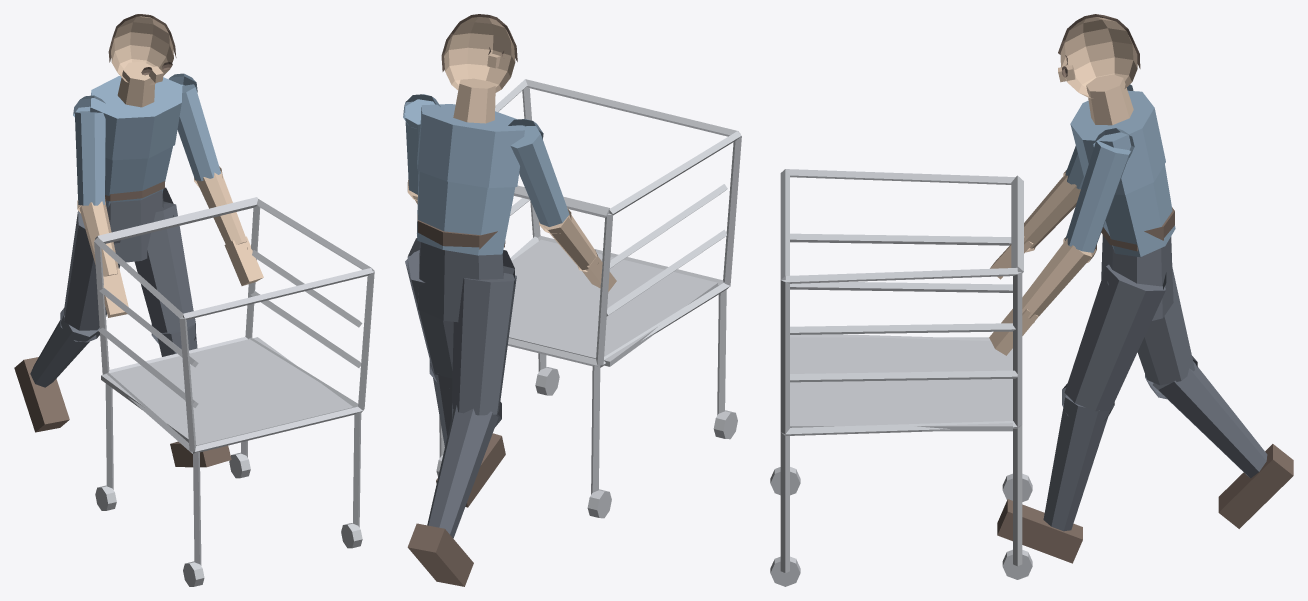
Rendered from low-poly-character-figures-civilian-pushing-trolley-02fba33e.glb.
3 views of the same model, side by side, from view 1: azimuth 30°, elevation 25°; view 2: azimuth 150°, elevation 25°; view 3: azimuth 270°, elevation 25° (orthographic). The views are drawn at different scales.
Visible parts, largest first — view 1: civilian-pushing-trolley; view 2: civilian-pushing-trolley; view 3: civilian-pushing-trolley.
Part boxes in pixels (bbox=[...]): civilian-pushing-trolley: bbox=[14, 14, 374, 586]; civilian-pushing-trolley: bbox=[403, 14, 741, 586]; civilian-pushing-trolley: bbox=[770, 14, 1293, 586].
Bounding box in the file's own units: 0.7912 × 1.74 × 1.58.
